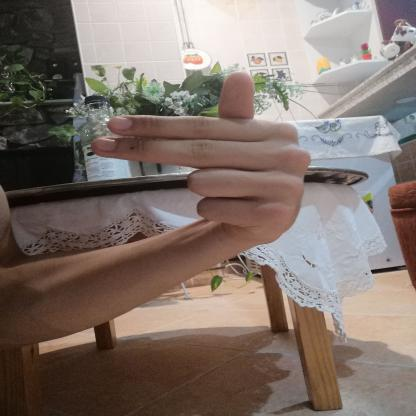GHAYN: (72, 64, 320, 252)
